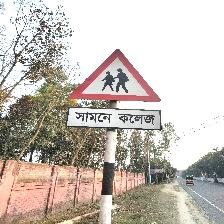College-in-front: (61, 46, 196, 150)
